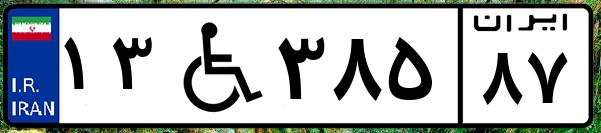1: (57, 26, 110, 100)
3: (270, 28, 330, 110), (110, 28, 158, 98)
5: (385, 28, 445, 110)
7: (525, 38, 570, 115)
8: (330, 28, 385, 110), (475, 38, 525, 113)
ژ (معلولین و جانبازان): (158, 12, 270, 120)
